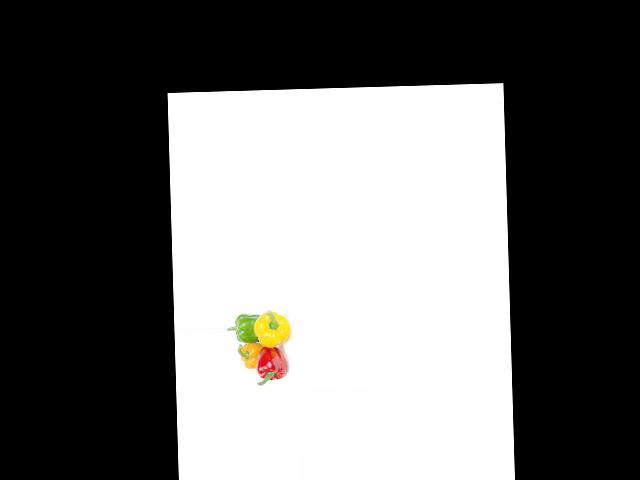bell_pepper: (253, 307, 292, 349)
